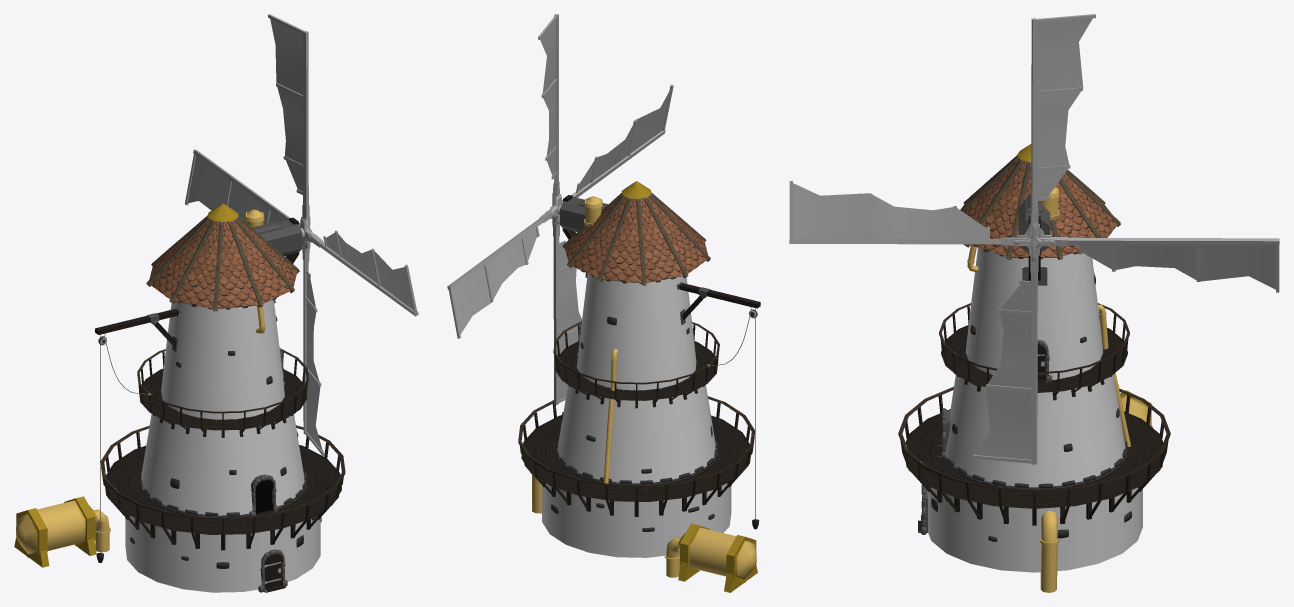
File: windMill.fbx
3 renders of one model, left to right at view 1: azimuth 30°, elevation 25°; view 2: azimuth 150°, elevation 25°; view 3: azimuth 270°, elevation 25°, orthographic. The views are drawn at different scales.
Visible parts, largest first — view 1: bodyMesh, detailMesh, fanMesh, polySurface321, woodenMesh; view 2: bodyMesh, detailMesh, fanMesh, polySurface321, woodenMesh; view 3: bodyMesh, fanMesh, detailMesh, polySurface321, woodenMesh.
Part boxes in pixels (x1,y1,x2,y2): bodyMesh: [125, 300, 320, 592]; detailMesh: [14, 203, 345, 592]; fanMesh: [185, 14, 418, 455]; polySurface321: [149, 218, 297, 308]; woodenMesh: [146, 215, 299, 311]; bodyMesh: [542, 274, 731, 557]; detailMesh: [518, 181, 760, 592]; fanMesh: [447, 14, 673, 405]; polySurface321: [564, 195, 707, 282]; woodenMesh: [562, 192, 710, 285]; bodyMesh: [927, 248, 1142, 572]; fanMesh: [789, 14, 1279, 464]; detailMesh: [898, 144, 1170, 592]; polySurface321: [960, 159, 1117, 256]; woodenMesh: [961, 155, 1120, 259].
Size of the model in its own units: 40.09 by 72.26 by 56.94.
